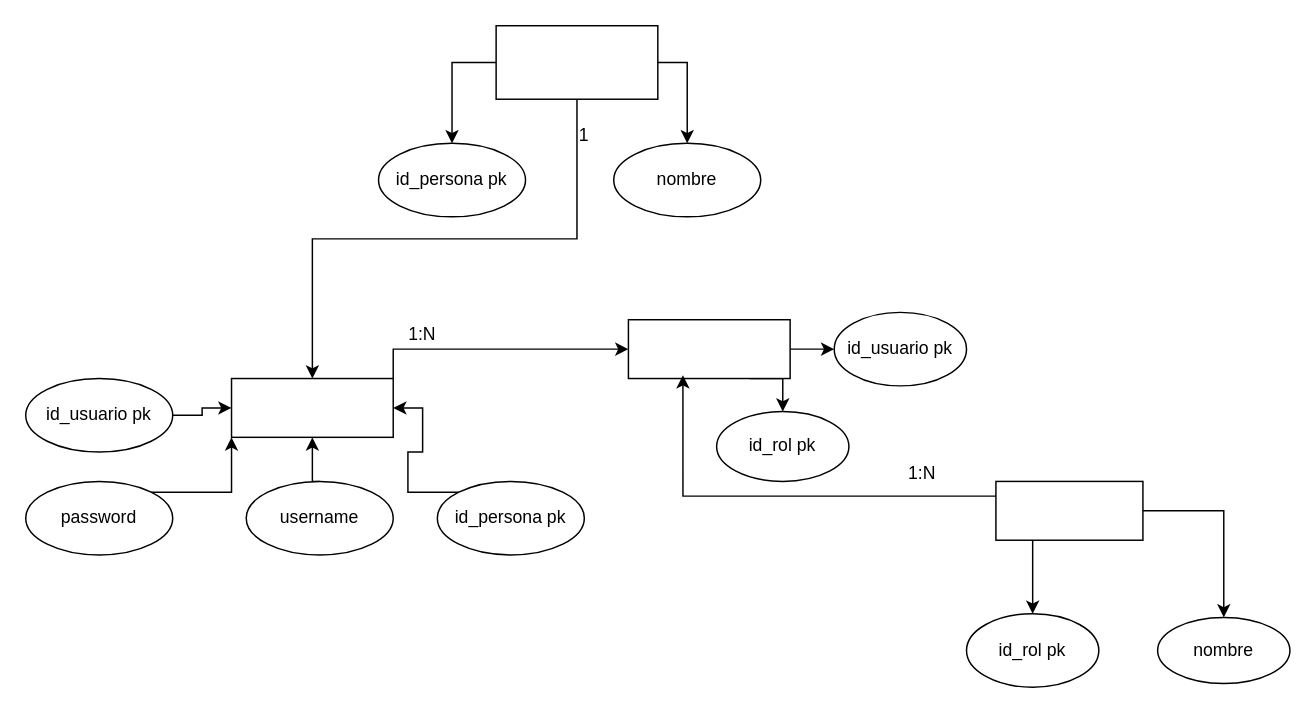
Some shapes in this 1316 by 713 pixel diagram are drawn without their labels. The centre of each missing label's shape, as x and y in pixels:
"Persona" belongs at point (576, 61).
"persona_usuario" belongs at point (708, 348).
"roles" belongs at point (1068, 510).
"usuario" belongs at point (311, 407).
